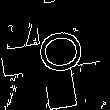O_W: (26, 30, 84, 80)
